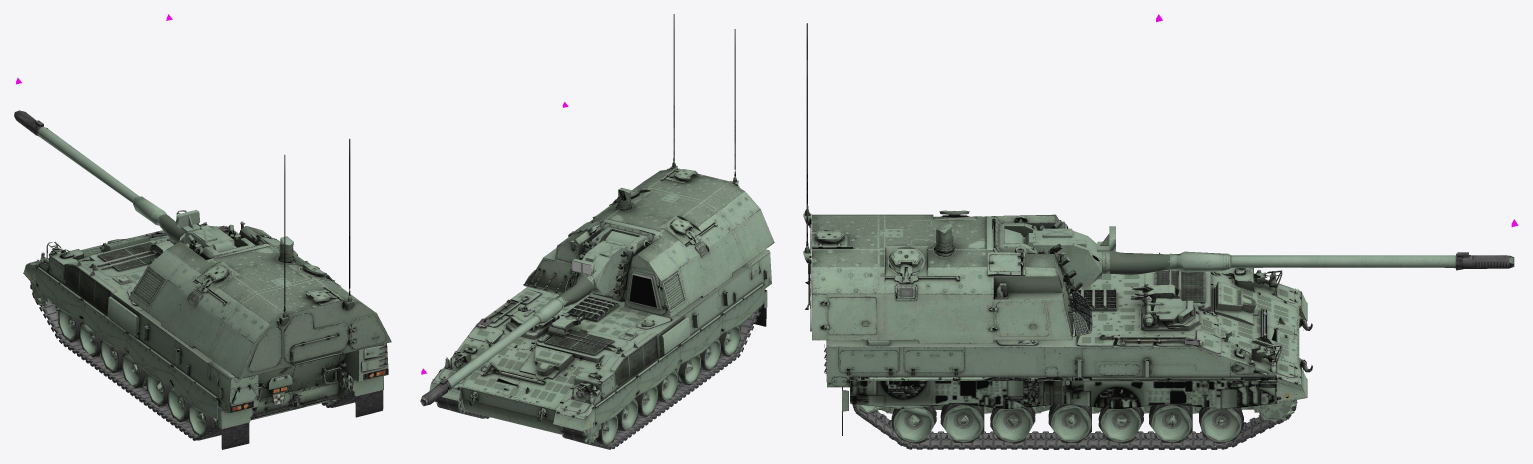
The model's file is heavyarty.glb.
3 renders of one model, left to right at view 1: azimuth 30°, elevation 25°; view 2: azimuth 150°, elevation 25°; view 3: azimuth 270°, elevation 25°, orthographic. The views are drawn at different scales.
Parts seen in each view (by area): view 1: Turret_3, Body_3, Body_1, Body_2, Turret_1, Body_4, Turret_2; view 2: Body_3, Turret_3, Turret_1, Body_1, Body_2, Body_4, Turret_2; view 3: Body_3, Turret_3, Body_2, Turret_1, Body_4.
Boxes of the visible parts, x1,y1,x2,y2 form: Turret_3: [128, 221, 391, 379]; Body_3: [23, 210, 388, 449]; Body_1: [34, 266, 218, 419]; Body_2: [30, 281, 352, 436]; Turret_1: [14, 110, 242, 252]; Body_4: [30, 284, 355, 440]; Turret_2: [284, 138, 350, 304]; Body_3: [429, 249, 771, 434]; Turret_3: [523, 154, 774, 318]; Turret_1: [420, 231, 637, 406]; Body_1: [593, 282, 764, 426]; Body_2: [436, 315, 751, 445]; Body_4: [435, 305, 761, 449]; Turret_2: [673, 14, 735, 169]; Body_3: [824, 252, 1312, 435]; Turret_3: [803, 206, 1092, 343]; Body_2: [858, 400, 1297, 443]; Turret_1: [988, 226, 1514, 287]; Body_4: [852, 299, 1296, 449].
Bounding box in the file's own units: 7.73 × 14.52 × 24.15.
7 materials, 6 textured.
